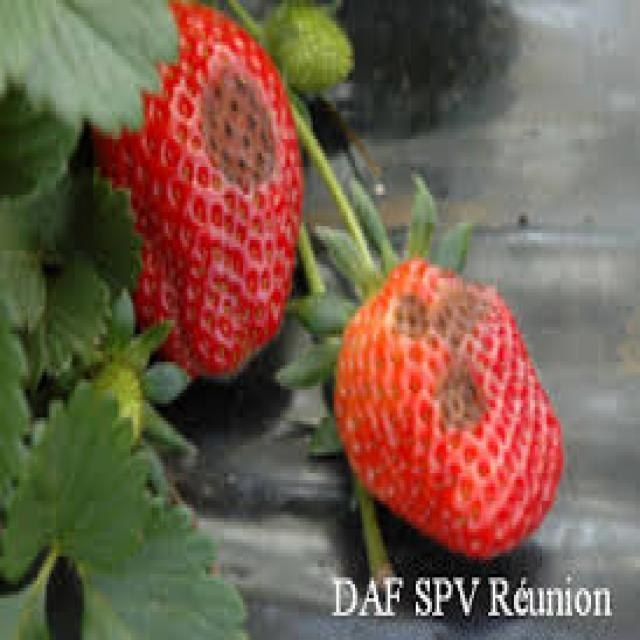Mancha negra Antracnosis: (84, 11, 304, 380), (337, 248, 568, 556)
